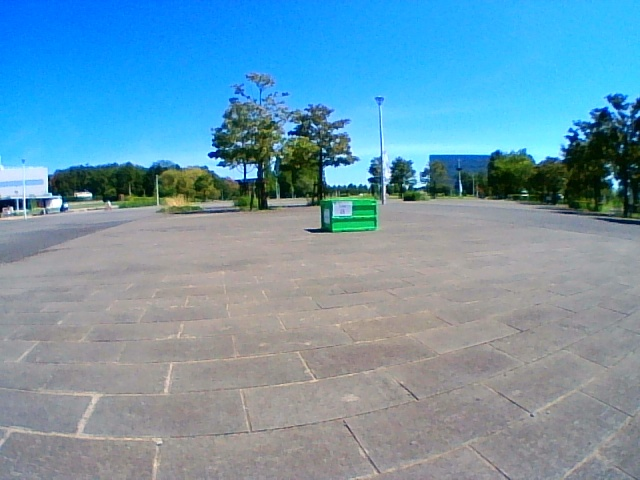green_box: (322, 198, 376, 232)
tag: (332, 203, 350, 216)
